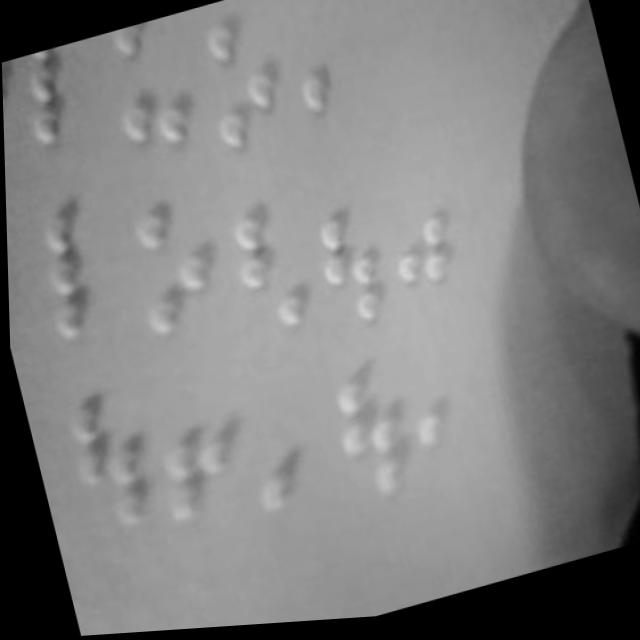braiile: (134, 378, 245, 537), (191, 10, 296, 164), (297, 188, 398, 344), (314, 355, 413, 510), (119, 201, 222, 347), (54, 391, 153, 537), (229, 378, 324, 526), (100, 16, 194, 161), (31, 207, 129, 346), (222, 198, 316, 340), (11, 37, 111, 154), (1, 59, 30, 162)
